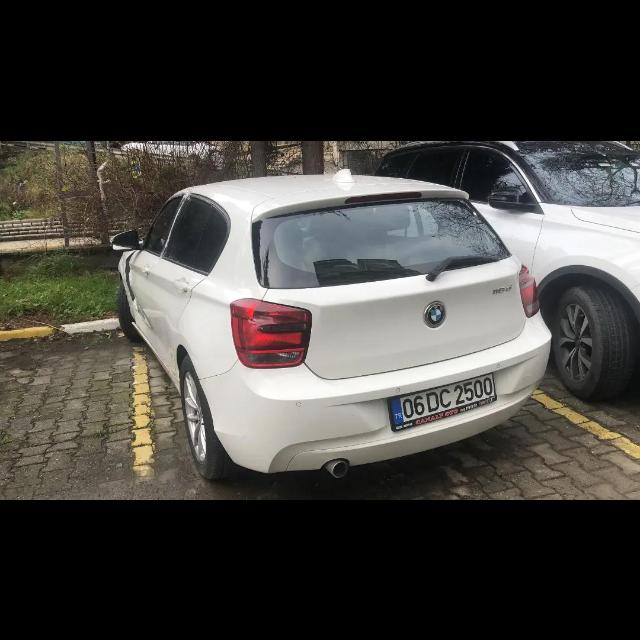Plaka: (390, 372, 496, 426)
